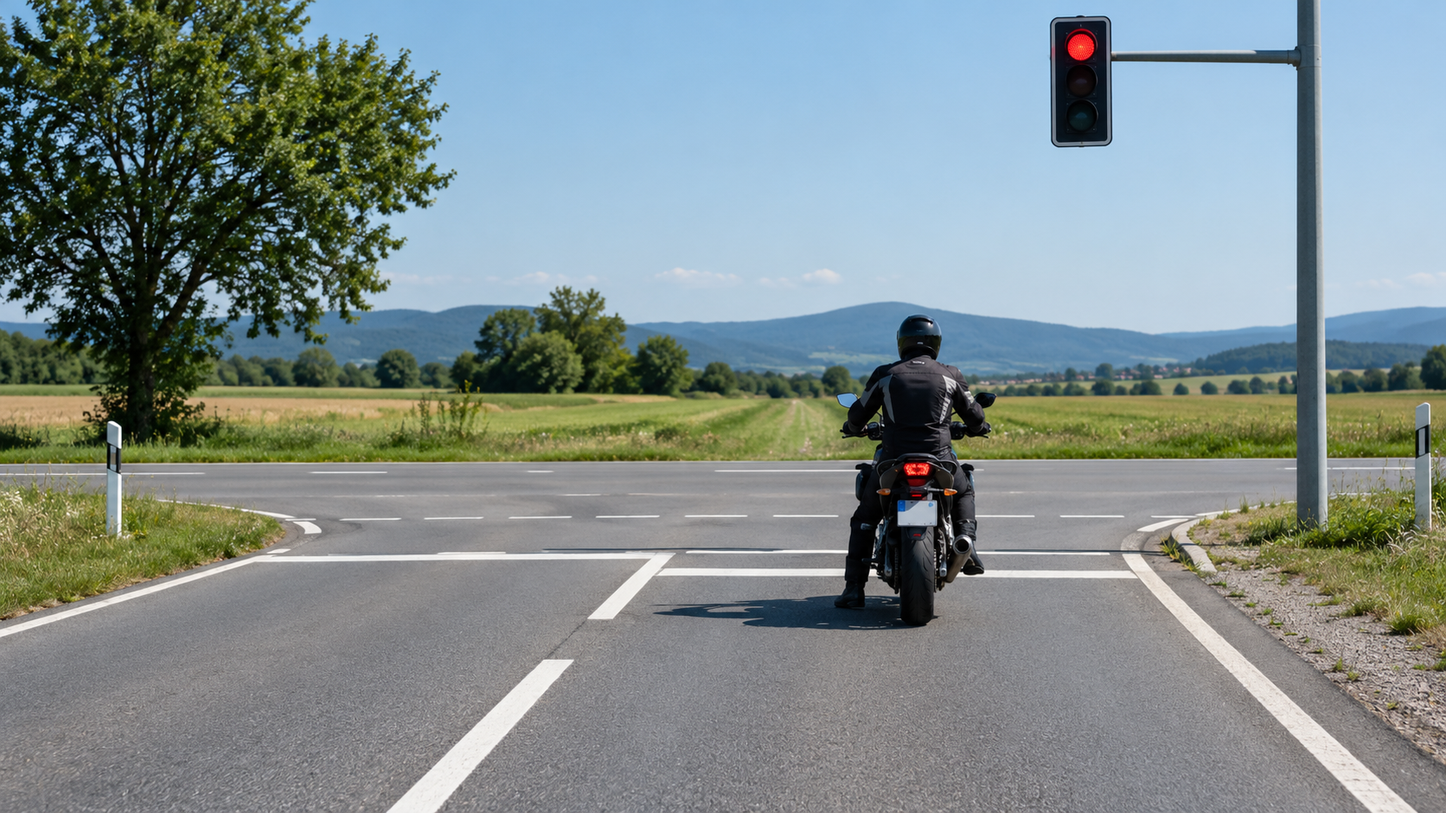motorcycle: (835, 342, 1015, 631)
person: (841, 314, 1010, 612)
traffic_light: (1048, 16, 1113, 150)
